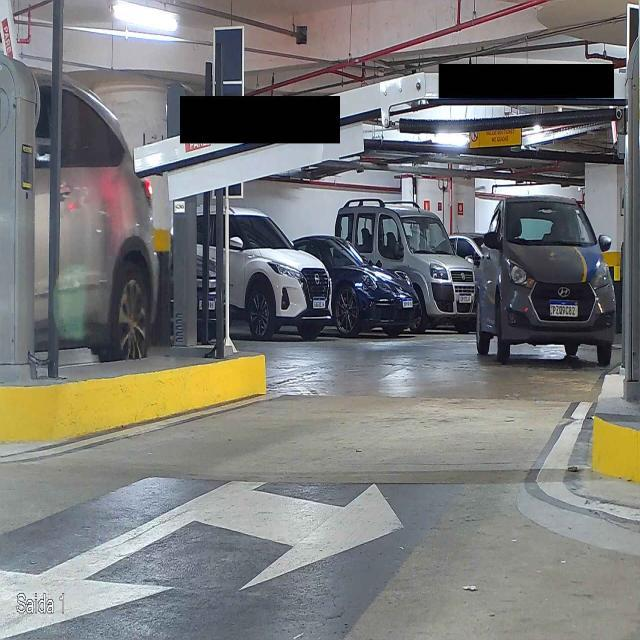mercosul_plate: (547, 298, 580, 319)
